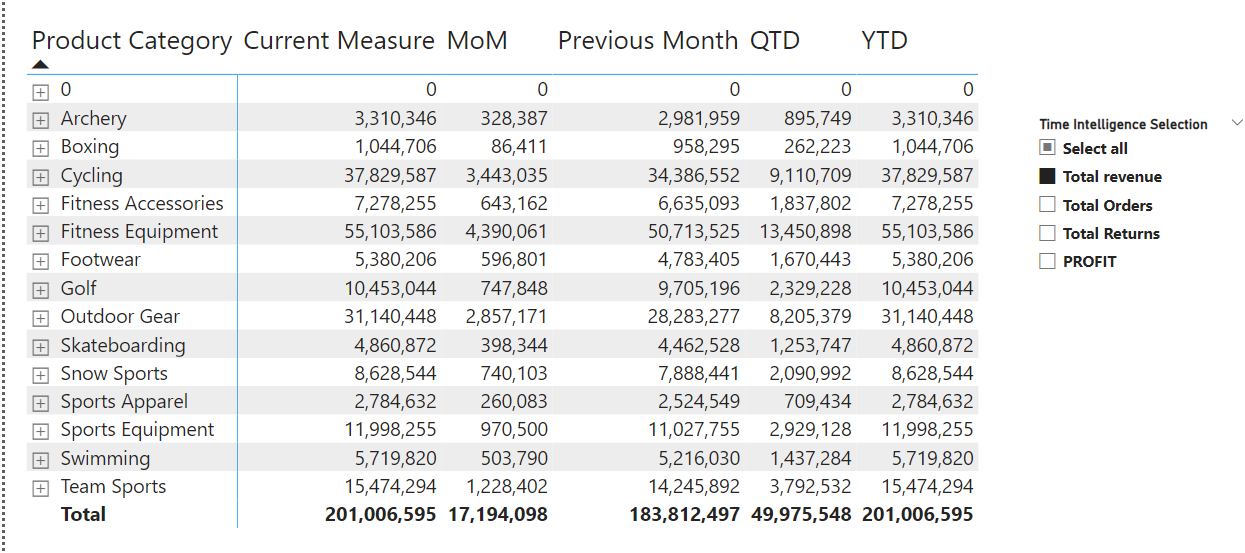

Layout of this report page (visuals, bound fields, positions):
{"tool":"powerbi","page":{"name":"Time Intelligence Calc groups","canvas":[1280,720],"ordinal":6},"visuals":[{"type":"pivotTable","fields":{"Values":["Measures Table.Total revenue"],"Rows":["Products.Product Category","Calender.Start of Month","Calender.Start of Week"],"Columns":["Time Intelligence.Calculation group column"]},"box":[16.2,51.8,997.4,537.6],"z":0},{"type":"slicer","fields":{"Values":["Time Intelligence Selection.Time Intelligence Selection"]},"box":[1046,150.6,234.8,176.5],"z":1000}]}

Visuals, with their boxes on the page's 1280x720 design canvas (x1, y1, x2, y2). These are canvas units, not pixel positions in the 1245x553 screenshot, which may show the page scaled, cropped or inside an application window:
pivotTable - Measures Table.Total revenue x Products.Product Category: (left=16, top=52, right=1014, bottom=589)
slicer - Time Intelligence Selection.Time Intelligence Selection: (left=1046, top=151, right=1281, bottom=327)
